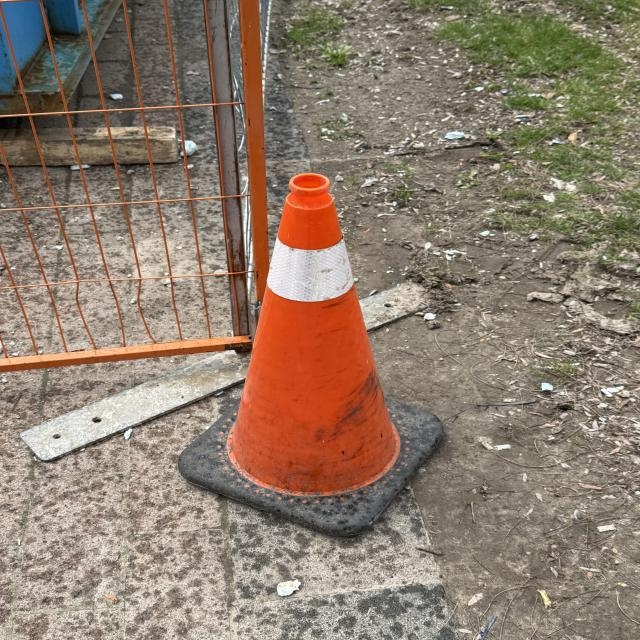Traffic Cone: (175, 170, 448, 539)
